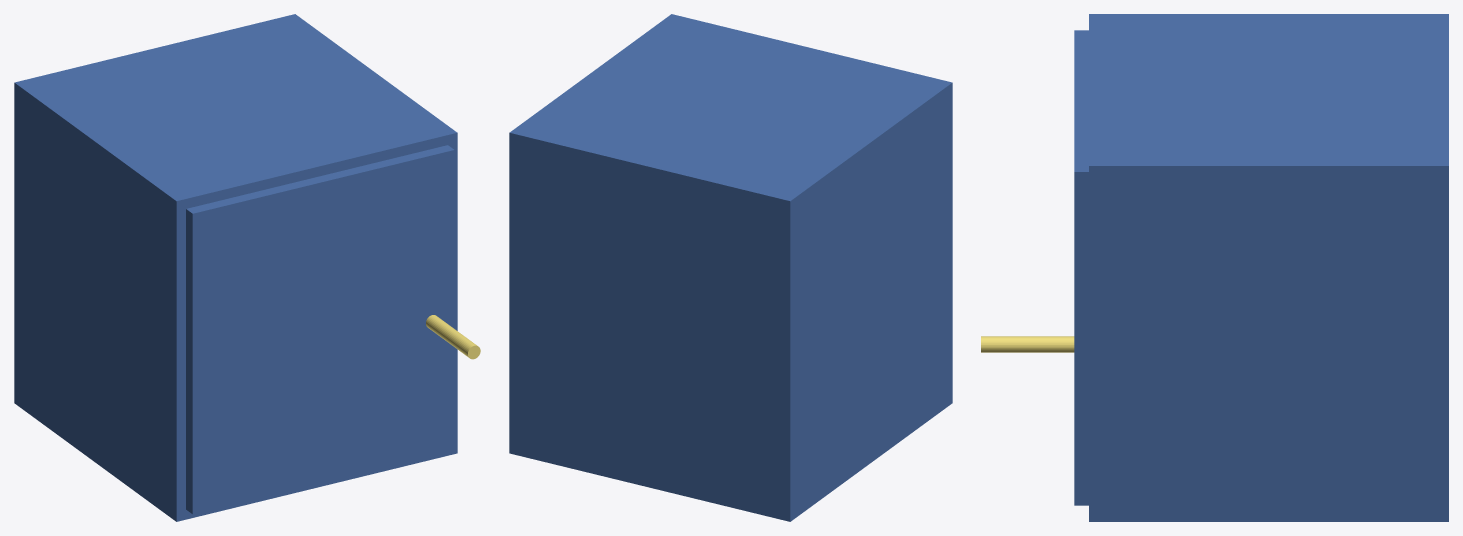
File: MiniFridge_v3_bar_silver.fbx
3 renders of one model, left to right at view 1: azimuth 30°, elevation 25°; view 2: azimuth 150°, elevation 25°; view 3: azimuth 270°, elevation 25°, orthographic. The views are drawn at different scales.
Visible parts, largest first — view 1: Seam; view 2: Seam; view 3: Seam.
Part boxes in pixels (x1=…): Seam: x1=14, y1=14, x2=480, y2=521; Seam: x1=509, y1=14, x2=952, y2=521; Seam: x1=981, y1=14, x2=1448, y2=521.
Bounding box in the file's own units: 0.44 × 0.48 × 0.572.
